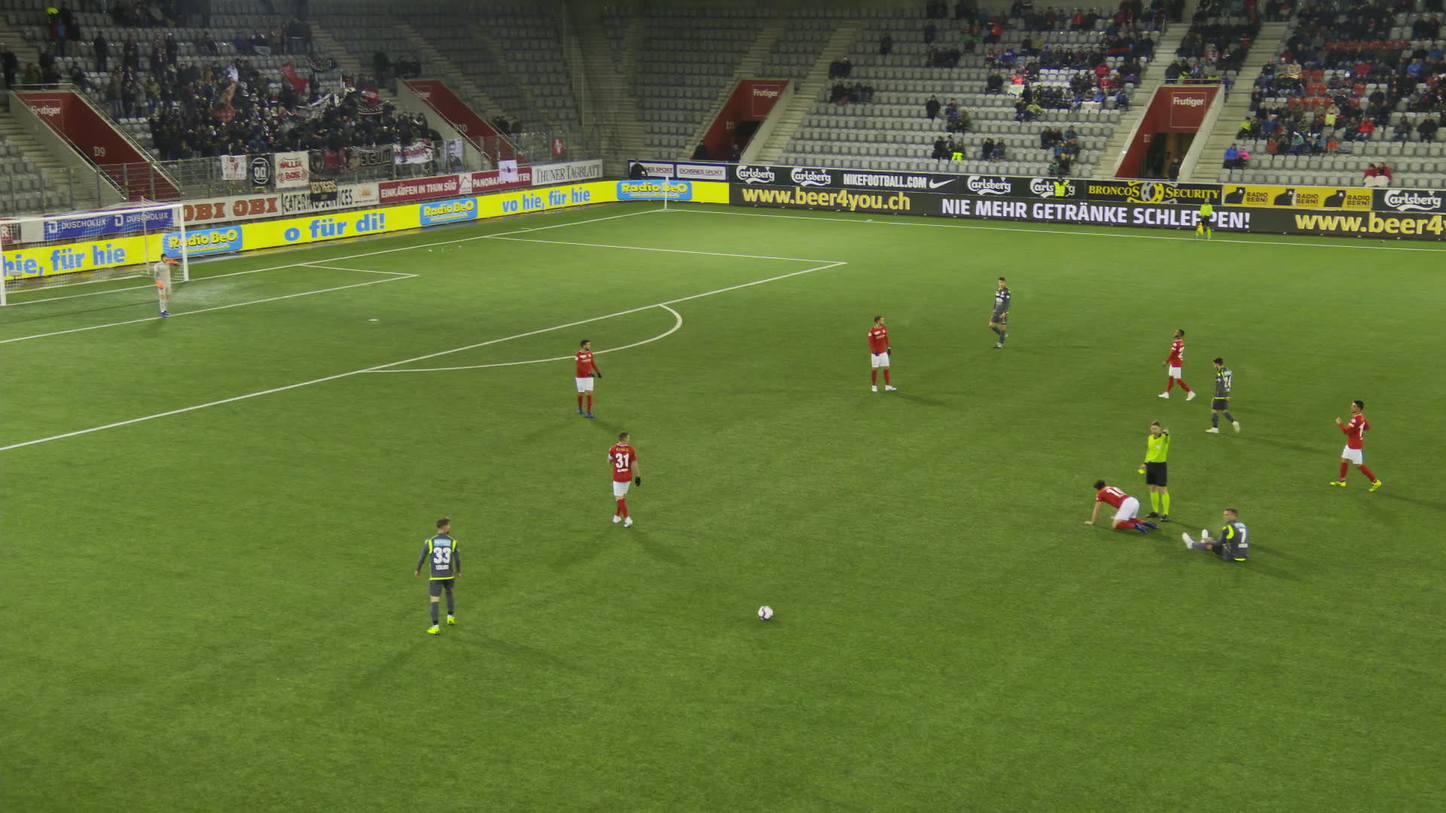ball: (757, 602, 773, 618)
player: (411, 514, 459, 635), (1325, 395, 1377, 492), (1079, 477, 1157, 535), (1175, 505, 1248, 562), (603, 429, 642, 526), (1198, 354, 1241, 437), (1152, 324, 1192, 401), (863, 312, 895, 392), (569, 337, 599, 419), (984, 274, 1014, 349), (148, 251, 179, 318)
referee: (1131, 417, 1171, 522), (1191, 195, 1212, 239)
